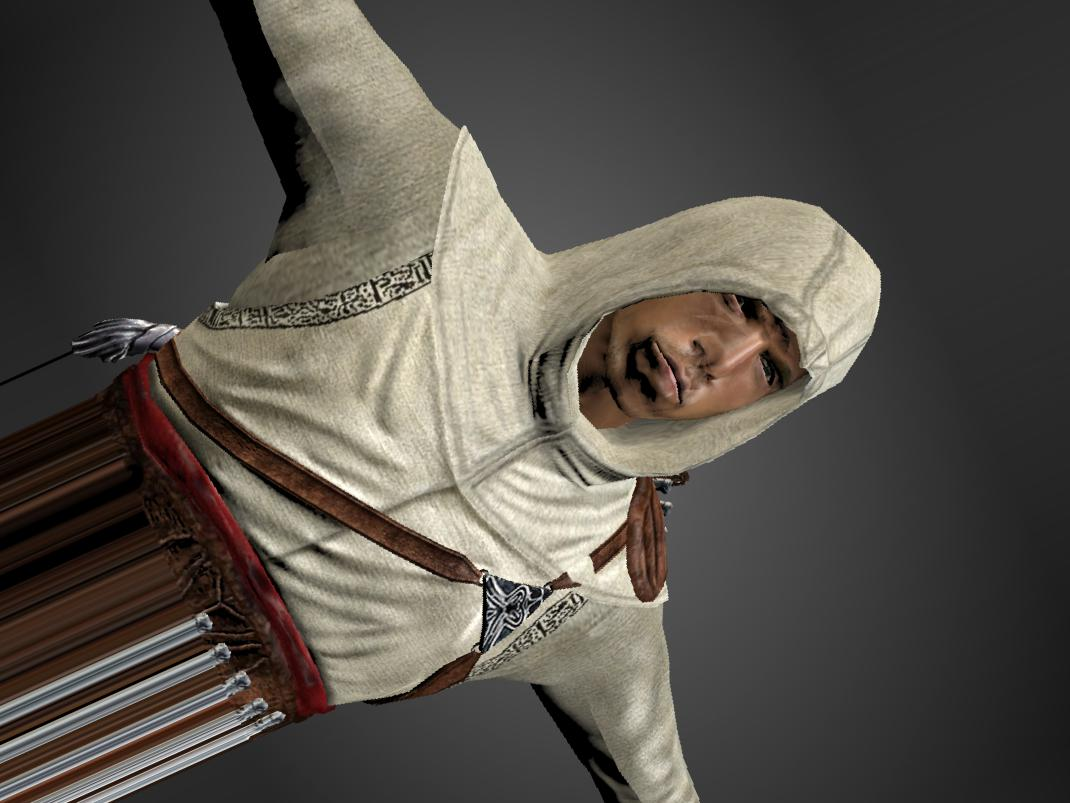clip: (563, 547, 605, 584)
